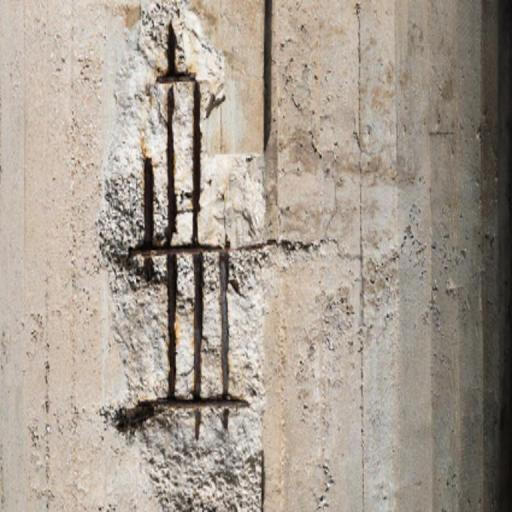spalling: (99, 4, 290, 512)
